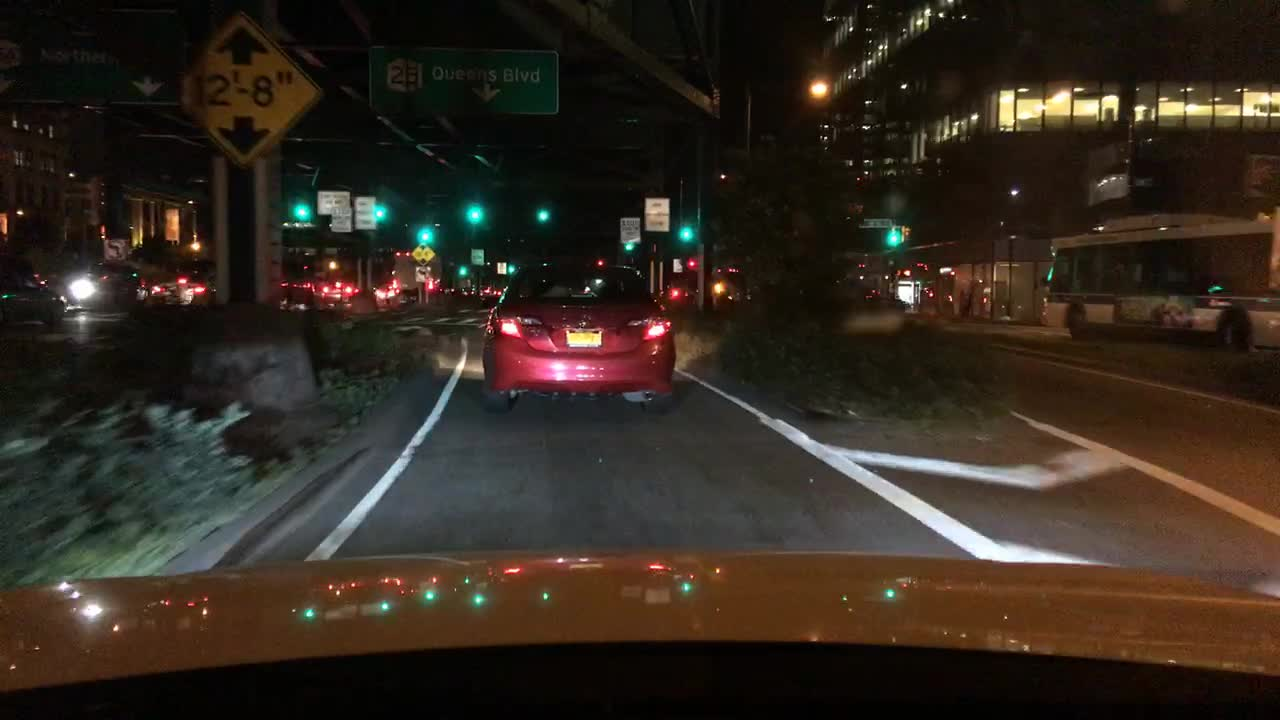bus: (1032, 207, 1279, 351)
car: (482, 253, 676, 412), (39, 255, 133, 317), (0, 255, 72, 326), (148, 272, 221, 310), (280, 278, 327, 307), (665, 287, 690, 315), (369, 285, 400, 307), (320, 278, 354, 295), (860, 283, 881, 305), (479, 282, 504, 299)
traffic light: (469, 199, 484, 219), (901, 223, 914, 246), (678, 219, 692, 239), (887, 226, 901, 246), (685, 256, 702, 270), (455, 261, 469, 277), (297, 196, 307, 216), (536, 202, 546, 221), (374, 199, 383, 218), (420, 226, 428, 241)
traffic sign: (177, 12, 320, 169), (0, 0, 179, 106), (368, 45, 555, 120), (643, 197, 668, 233), (317, 187, 347, 212), (354, 196, 376, 226), (617, 214, 643, 238), (329, 207, 349, 233), (855, 216, 889, 229), (410, 248, 433, 265), (415, 265, 428, 282), (670, 256, 681, 273)
truck: (364, 246, 435, 299)
